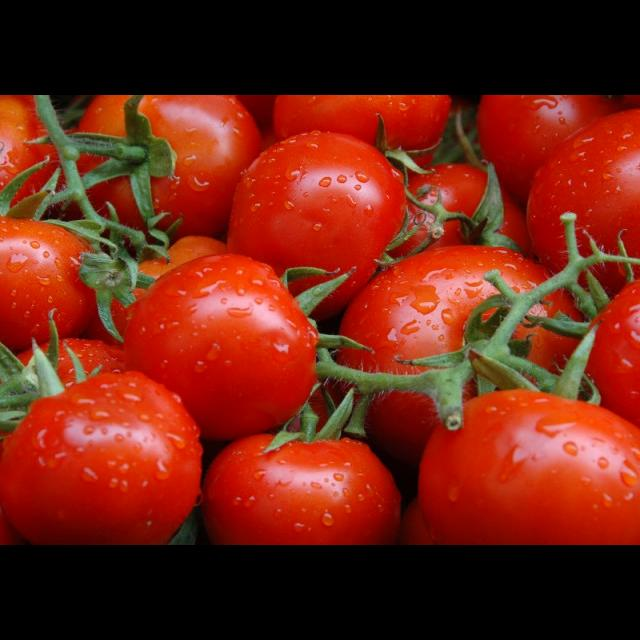tomato: (123, 256, 316, 440), (0, 372, 202, 544), (417, 390, 640, 544), (227, 131, 406, 319), (337, 245, 549, 373), (204, 434, 399, 544), (527, 109, 640, 270), (139, 95, 260, 238), (477, 95, 623, 201), (0, 216, 95, 351), (274, 95, 450, 150), (586, 278, 640, 428), (0, 95, 56, 191), (366, 391, 433, 459), (408, 164, 486, 216), (391, 202, 466, 256), (139, 236, 226, 278), (57, 339, 126, 385), (88, 179, 143, 227), (516, 327, 575, 369), (72, 95, 131, 136), (499, 193, 530, 253), (12, 164, 55, 204), (113, 302, 135, 334), (78, 154, 103, 174), (90, 324, 110, 339), (133, 288, 148, 299)
